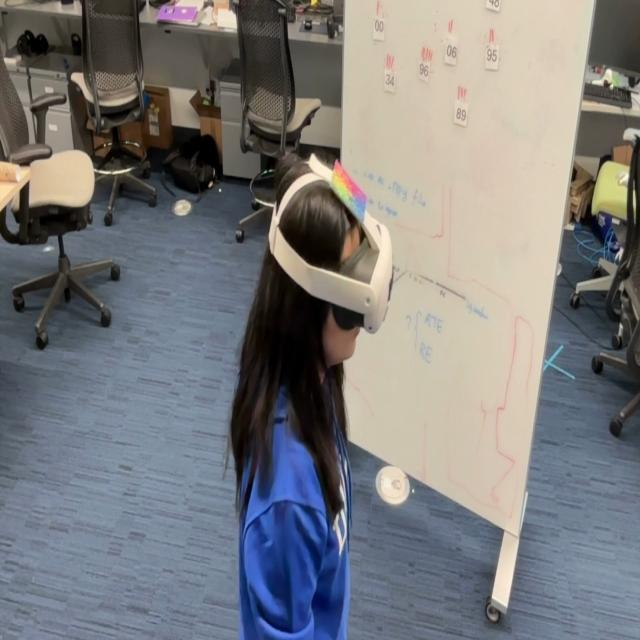Headset: (267, 164, 393, 334)
Marker: (330, 156, 368, 225)
